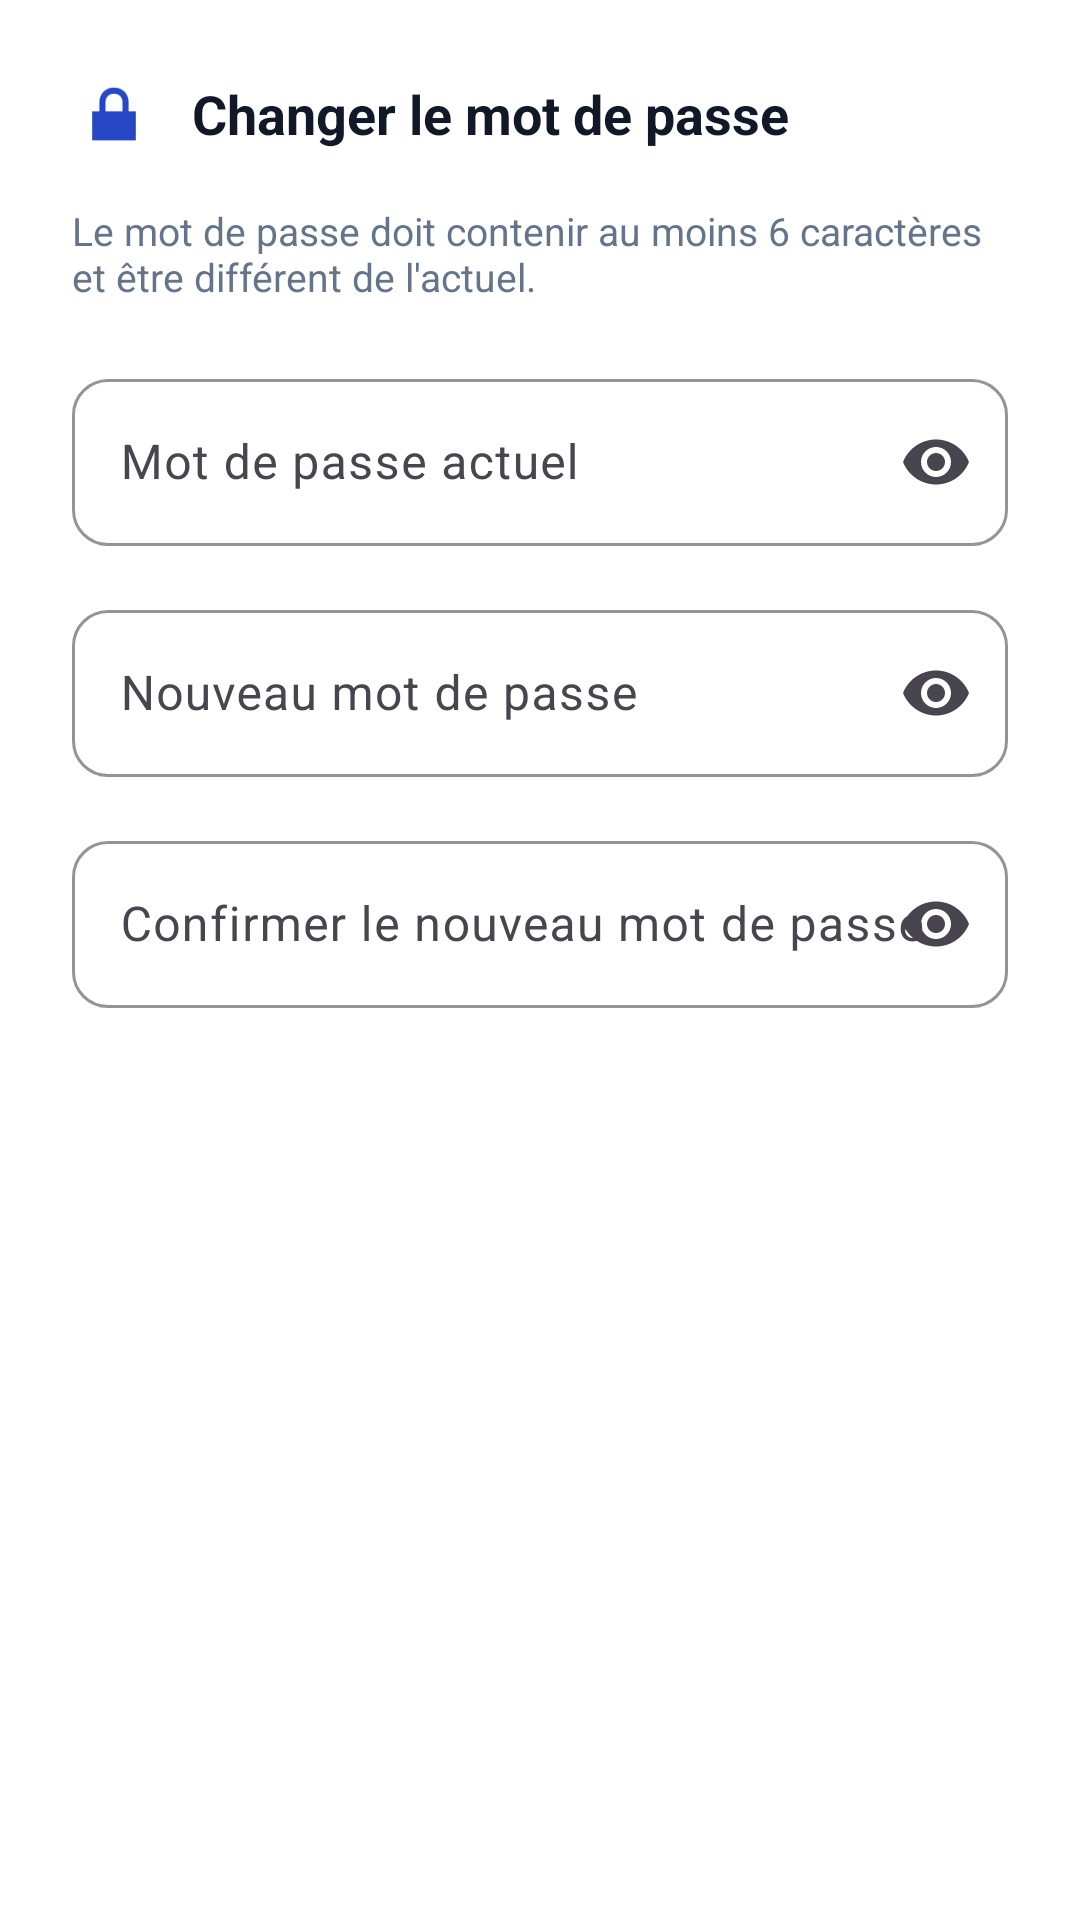

Point at icon controls on the screen. Image size 1080w x 1920h, points as point (x, y).
Lock Icon: point (114, 114)
